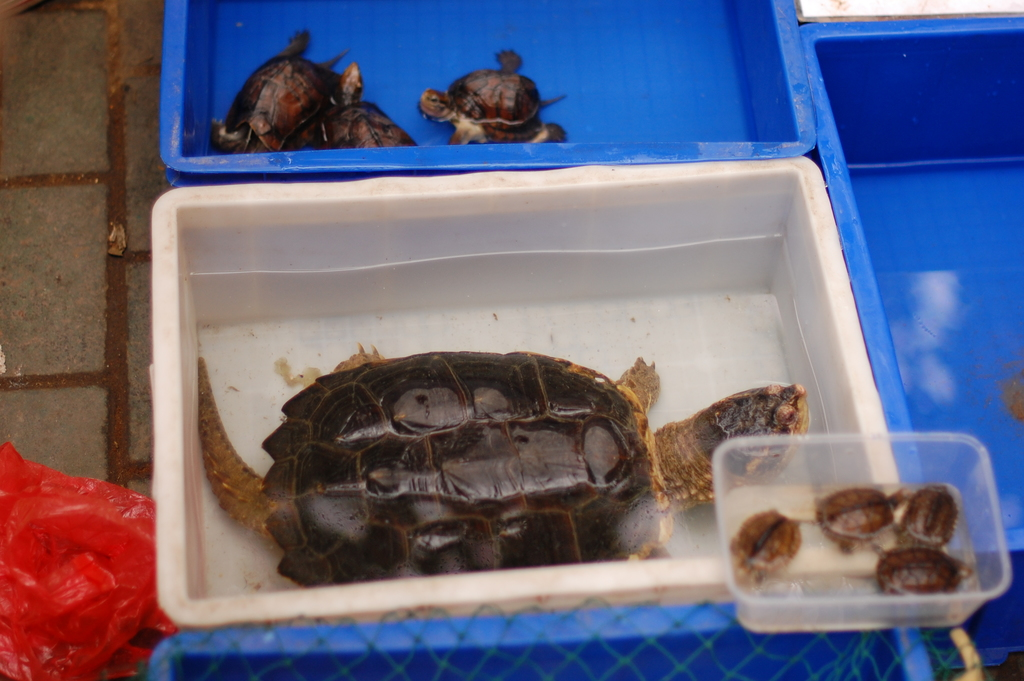Sea turtles: (159, 337, 828, 583), (211, 27, 346, 156), (418, 45, 570, 146), (322, 56, 422, 152), (813, 484, 917, 555), (727, 502, 802, 588), (874, 540, 976, 598), (898, 476, 958, 552)
